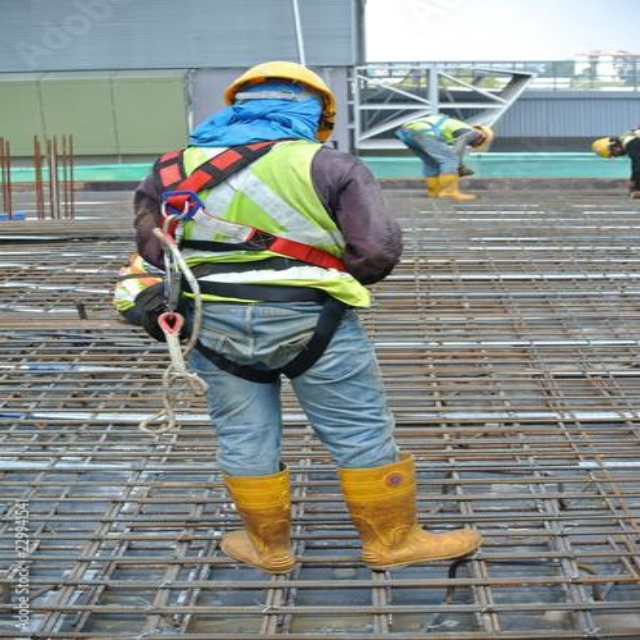Arnes_seguridad: (136, 143, 372, 389), (392, 113, 470, 151)
